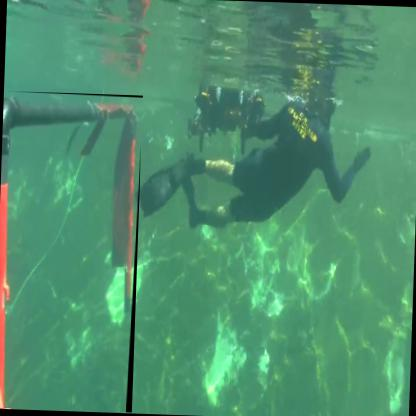gate: (1, 92, 145, 415)
